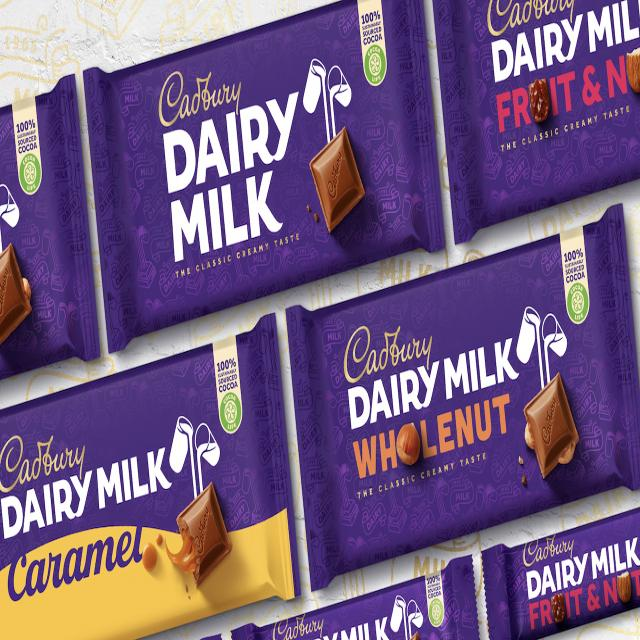cadbury: (282, 202, 640, 590), (81, 0, 440, 358), (0, 315, 300, 640), (428, 0, 640, 241), (487, 503, 640, 640)
